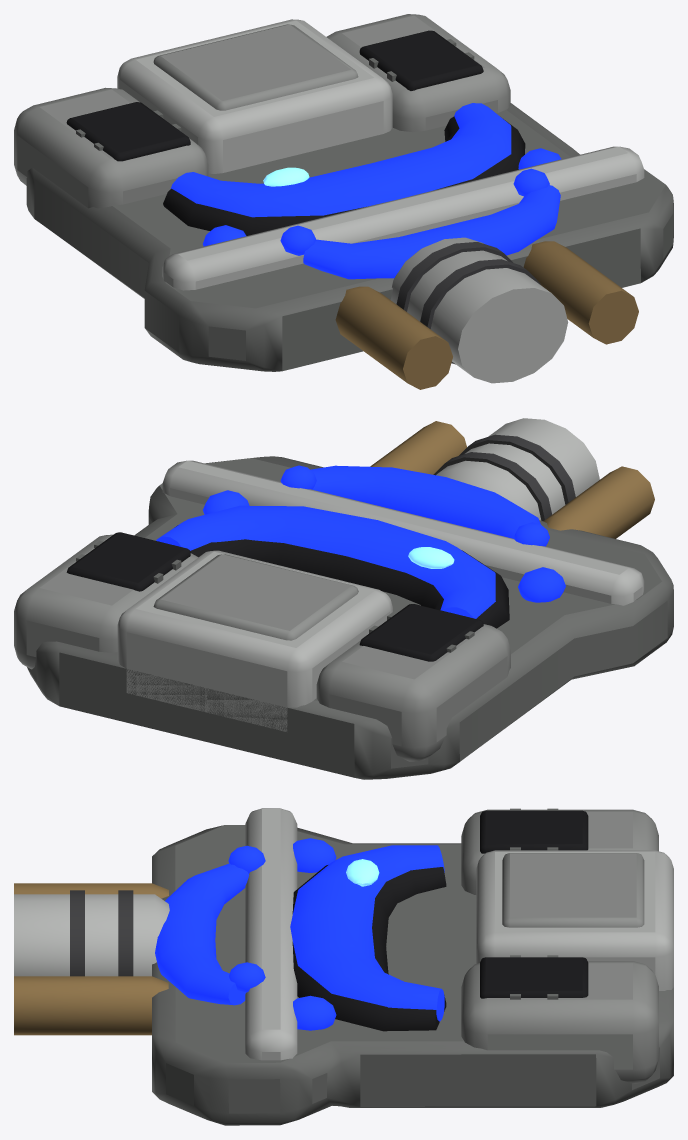
File: store_generator_16.glb
3 renders of one model, top to bottom at view 1: azimuth 30°, elevation 25°; view 2: azimuth 150°, elevation 25°; view 3: azimuth 270°, elevation 25°, orthographic. The views are drawn at different scales.
Parts seen in each view (by area): view 1: steel_light, steel_mid, steel, energy_blue, gold, black, steel_dark, channel_hot; view 2: steel_mid, steel_light, steel, energy_blue, black, gold, steel_dark, channel_hot; view 3: steel_mid, steel_light, steel, energy_blue, black, gold, steel_dark, channel_hot.
Part boxes in pixels (x1,y1,x2,y2): steel_light: (117, 19, 644, 383); steel_mid: (26, 39, 673, 371); steel: (14, 14, 510, 208); energy_blue: (171, 103, 561, 279); gold: (335, 241, 638, 389); black: (66, 30, 525, 235); steel_dark: (396, 242, 540, 364); channel_hot: (263, 167, 309, 186); steel_mid: (27, 456, 673, 779); steel_light: (117, 418, 644, 731); steel: (14, 534, 510, 761); energy_blue: (156, 465, 565, 618); black: (66, 525, 509, 661); gold: (370, 421, 654, 538); steel_dark: (433, 434, 575, 520); channel_hot: (408, 547, 454, 568); steel_mid: (152, 808, 673, 1125); steel_light: (14, 808, 673, 1060); steel: (461, 809, 658, 1083); energy_blue: (155, 838, 444, 1030); black: (292, 810, 588, 1031); gold: (14, 883, 168, 1035); steel_dark: (70, 890, 133, 976); channel_hot: (346, 859, 379, 886).
Bounding box in the file's own units: 31 × 7.2 × 35.4.
